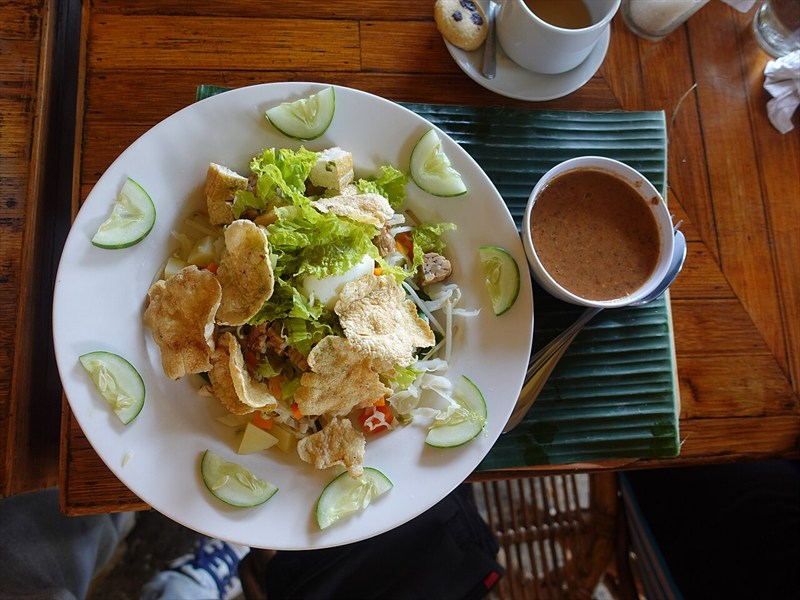Gado-Gado: (57, 69, 688, 551)
